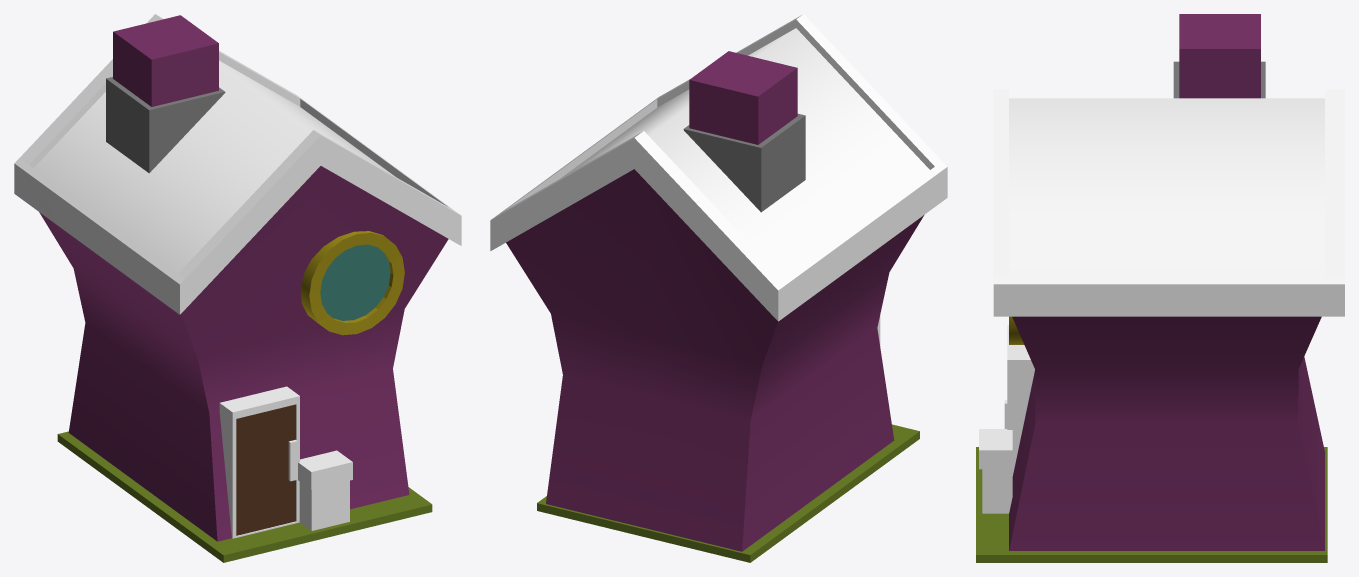
File: house02.fbx
3 views of the same model, side by side, from view 1: azimuth 30°, elevation 25°; view 2: azimuth 150°, elevation 25°; view 3: azimuth 270°, elevation 25° (orthographic). The views are drawn at different scales.
Visible parts, largest first — view 1: transform13 (×7); view 2: transform13 (×4); view 3: transform13 (×3).
Part boxes in pixels (bbox=[...]): transform13 (×7): bbox=[14, 14, 461, 562]; transform13 (×4): bbox=[490, 14, 947, 562]; transform13 (×3): bbox=[976, 14, 1344, 562].
Size of the model in its own units: 26.29 by 38.1 by 28.1.
